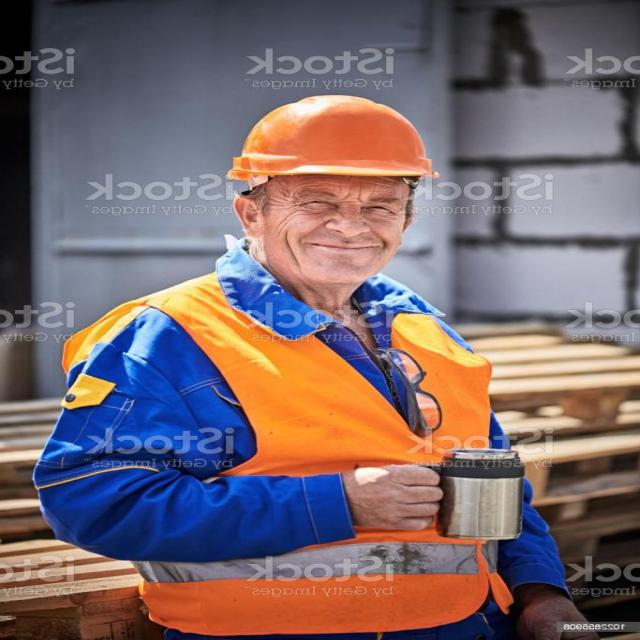Reflective-Jacket: (71, 274, 517, 636)
Safety-Helmet: (220, 90, 440, 185)
